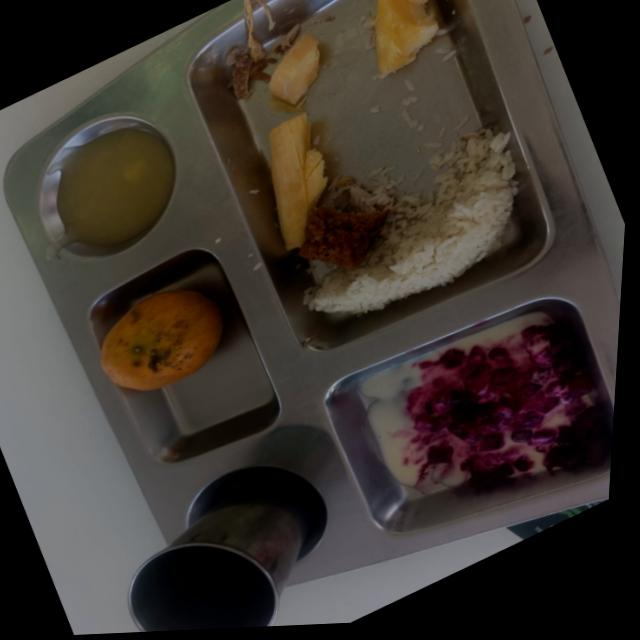arroz: (304, 132, 516, 312), (363, 185, 390, 206), (351, 186, 361, 194), (347, 185, 349, 187)
mandarina: (100, 288, 223, 389)
pescado frito: (299, 205, 389, 268), (227, 47, 276, 98)
yuca: (269, 32, 328, 248), (375, 0, 437, 72)
